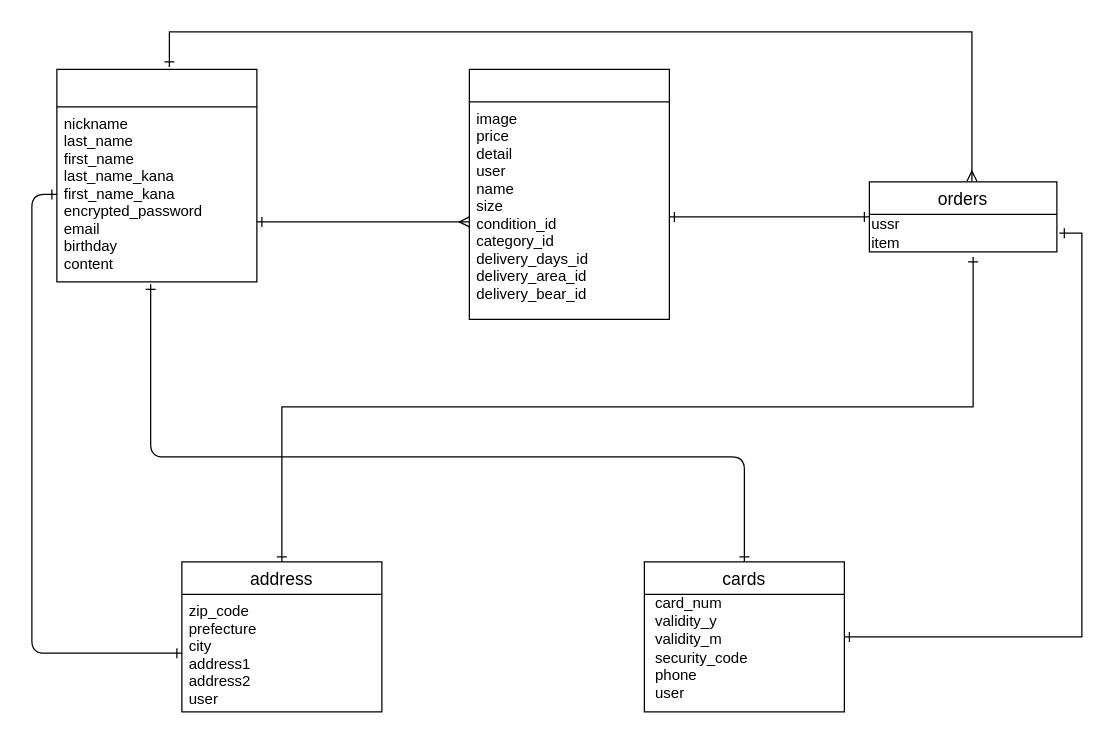
Some shapes in this 1115 by 738 pixel diagram are drawn without their labels. Each missing label, with the box of its shape:
items: (468, 68, 669, 319)
users: (56, 68, 257, 282)
